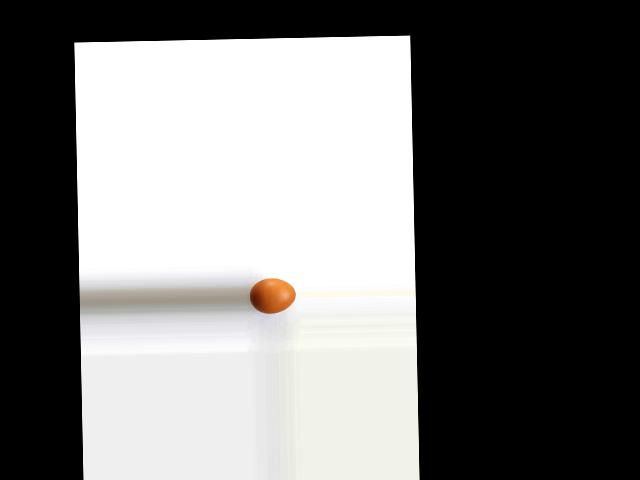egg: (249, 278, 295, 314)
